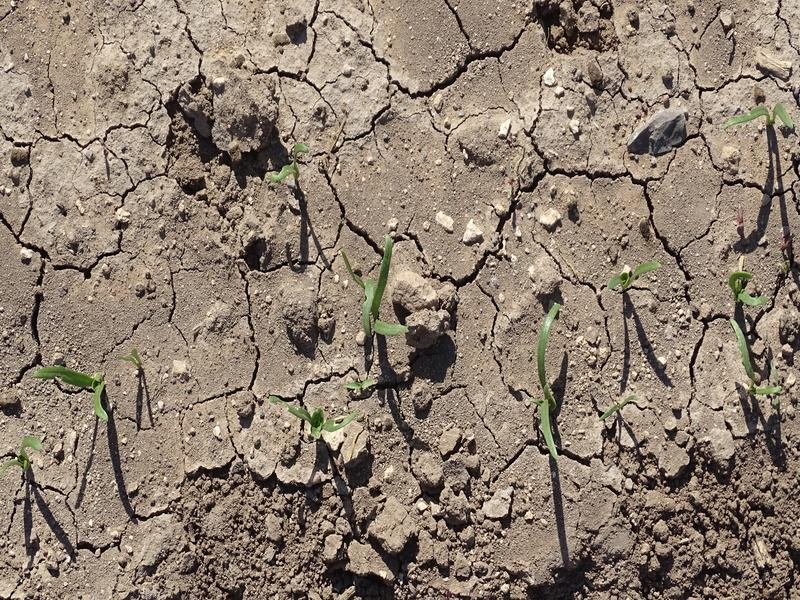Espinaca: (722, 266, 778, 394), (344, 240, 408, 339), (34, 361, 117, 420), (533, 301, 561, 451), (273, 394, 358, 435), (723, 102, 796, 130), (610, 254, 654, 293)
